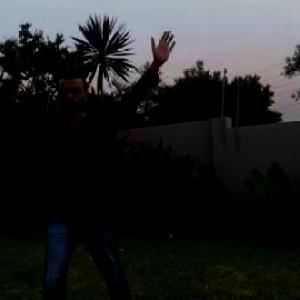takeoff: (1, 37, 185, 299)
